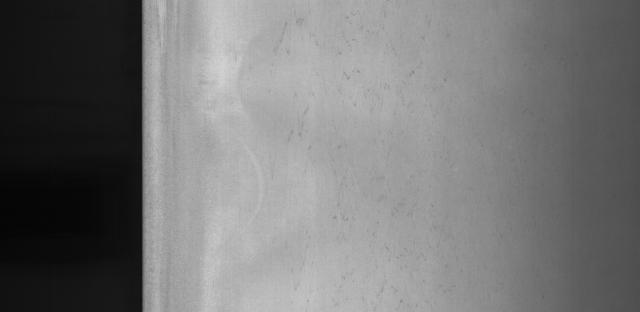silk_spot: (274, 13, 446, 273)
